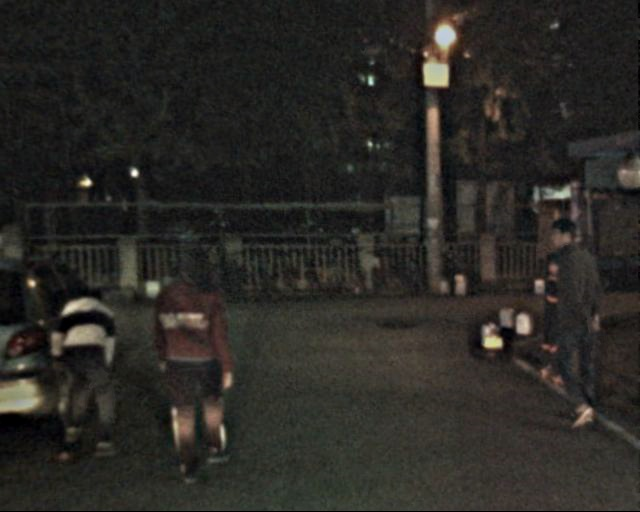person: (156, 243, 250, 484), (535, 213, 612, 439), (54, 268, 132, 457)
